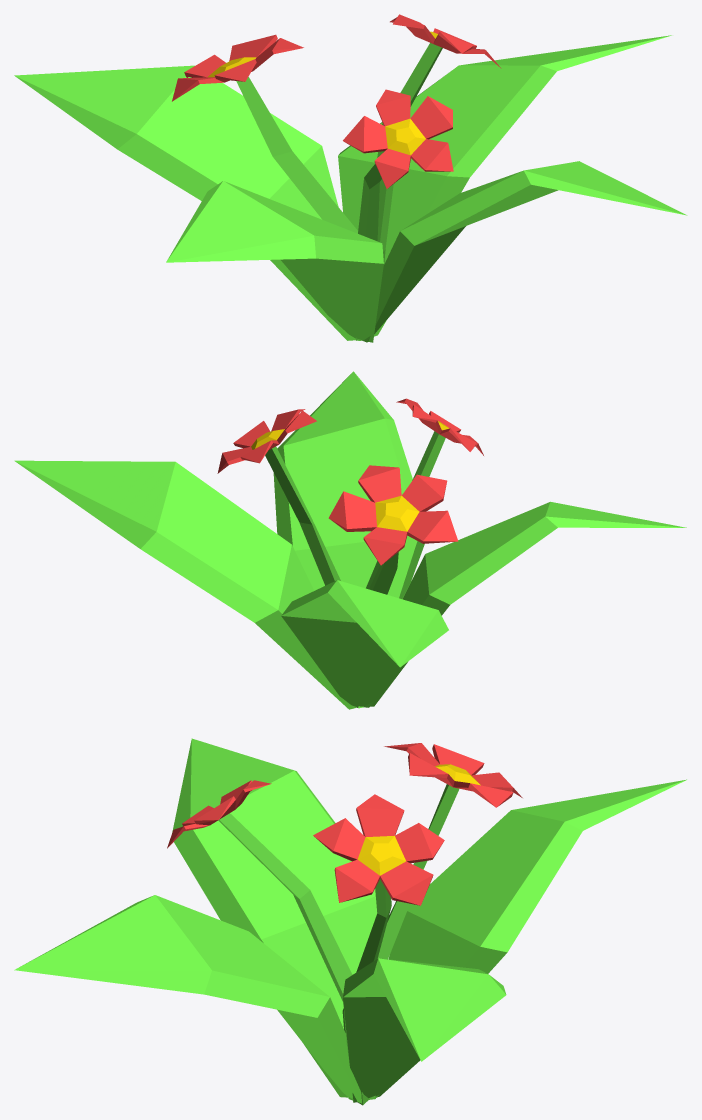
File: flower.glb
3 views of the same model, one above another, from view 1: azimuth 30°, elevation 25°; view 2: azimuth 150°, elevation 25°; view 3: azimuth 270°, elevation 25° (orthographic). The views are drawn at different scales.
Parts seen in each view (by area): view 1: flower.042; view 2: flower.042; view 3: flower.042.
Boxes of the visible parts, bbox=[...] form: flower.042: bbox=[14, 14, 687, 342]; flower.042: bbox=[14, 371, 686, 709]; flower.042: bbox=[14, 738, 686, 1105].
Bounding box in the file's own units: 0.5406 × 0.2506 × 0.4759.
